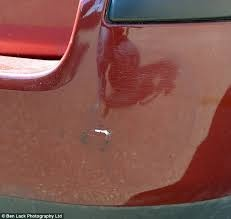Scratch: (81, 127, 112, 141)
